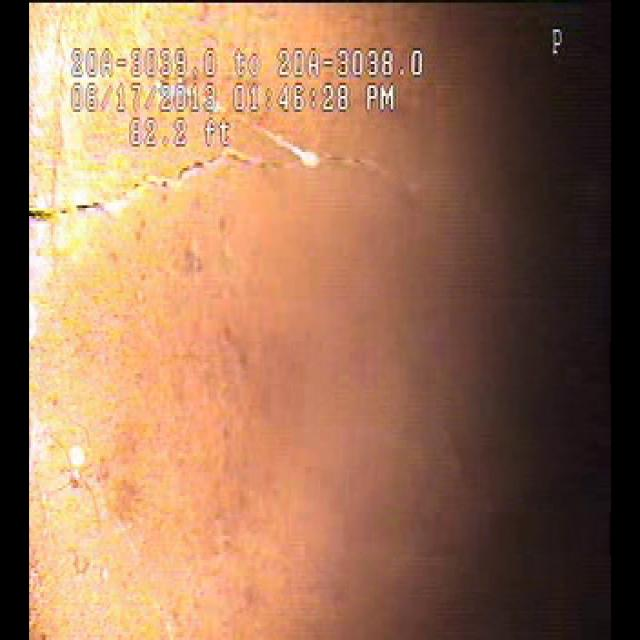Crack: (32, 148, 357, 235)
